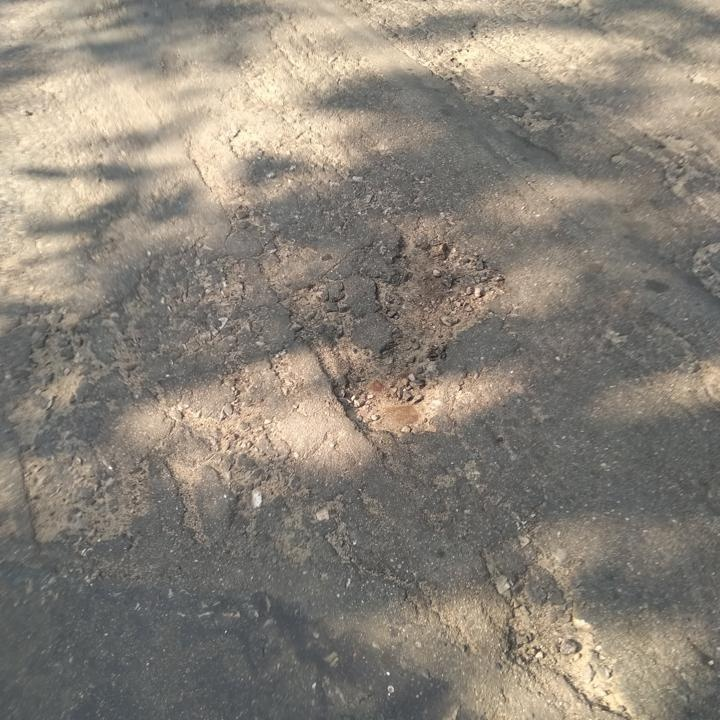pothole: (497, 602, 647, 716), (368, 234, 511, 340), (334, 342, 451, 437)
